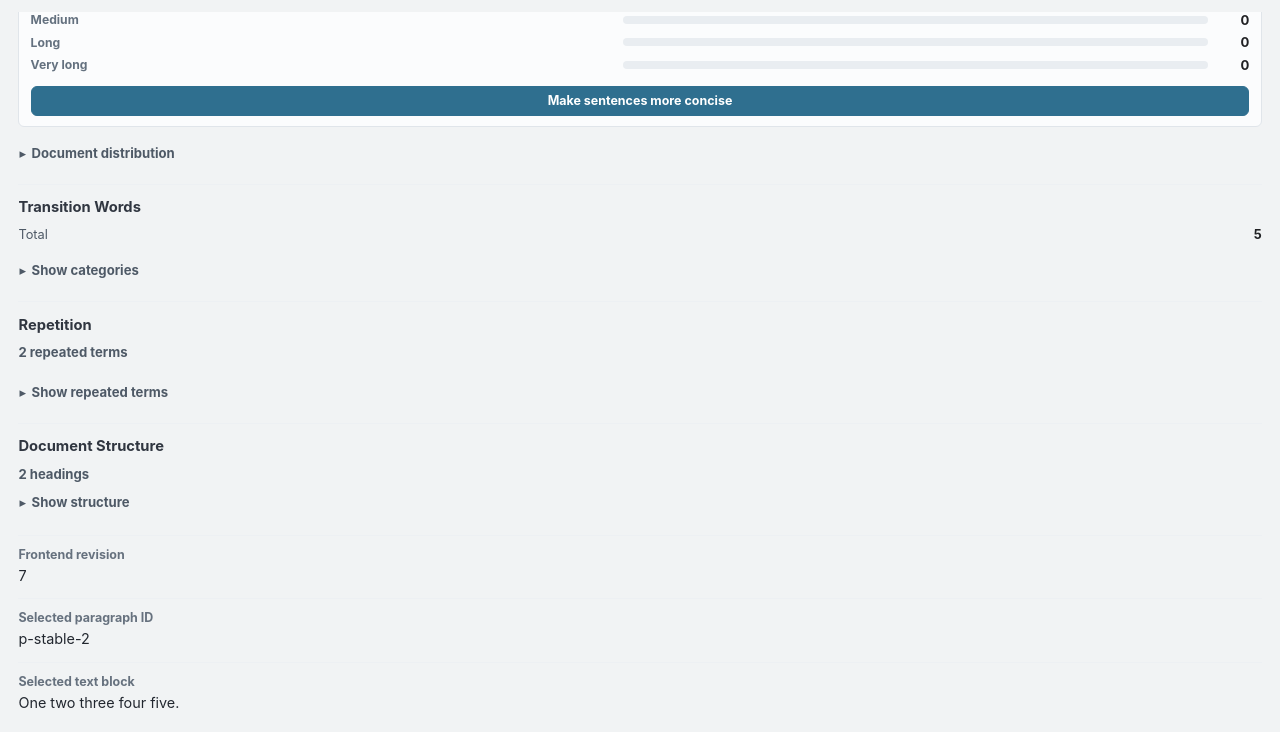
Test case: WritingAnalyticsPanel paragraph length focus › expands sentence document distribution independently
The image size is (1280, 732).
(page scrolled)
Click the button "▸ Document distribution" at (103, 153), box [18, 138, 1262, 168]
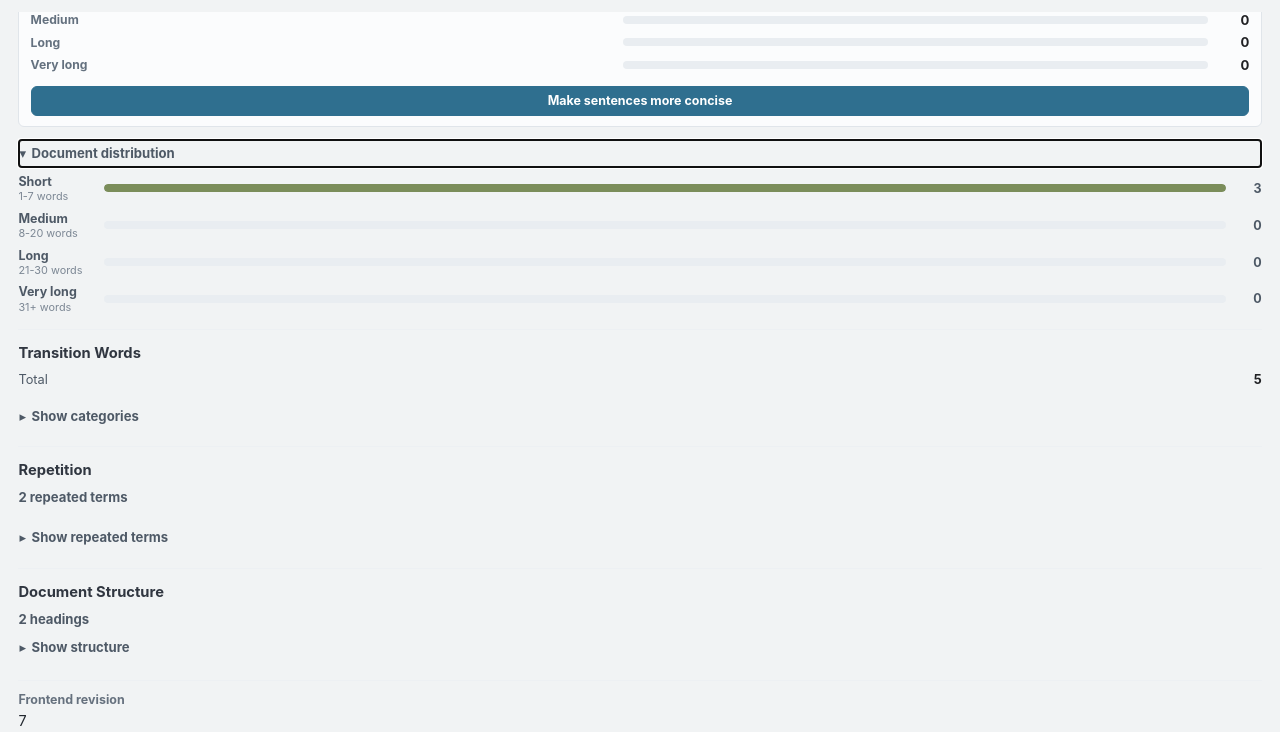
Check: the element with class "sentence-distribution-list" is shown, box [18, 174, 1262, 313]
